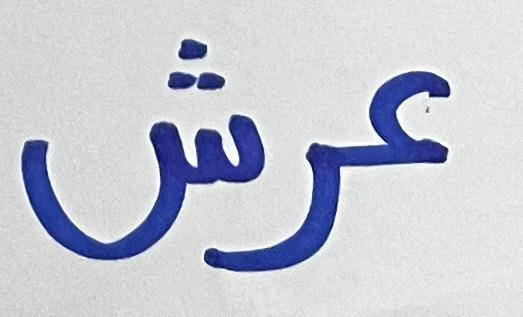jeem: (353, 45, 460, 174)
reh: (279, 136, 349, 275)
sheen: (12, 16, 265, 248)
